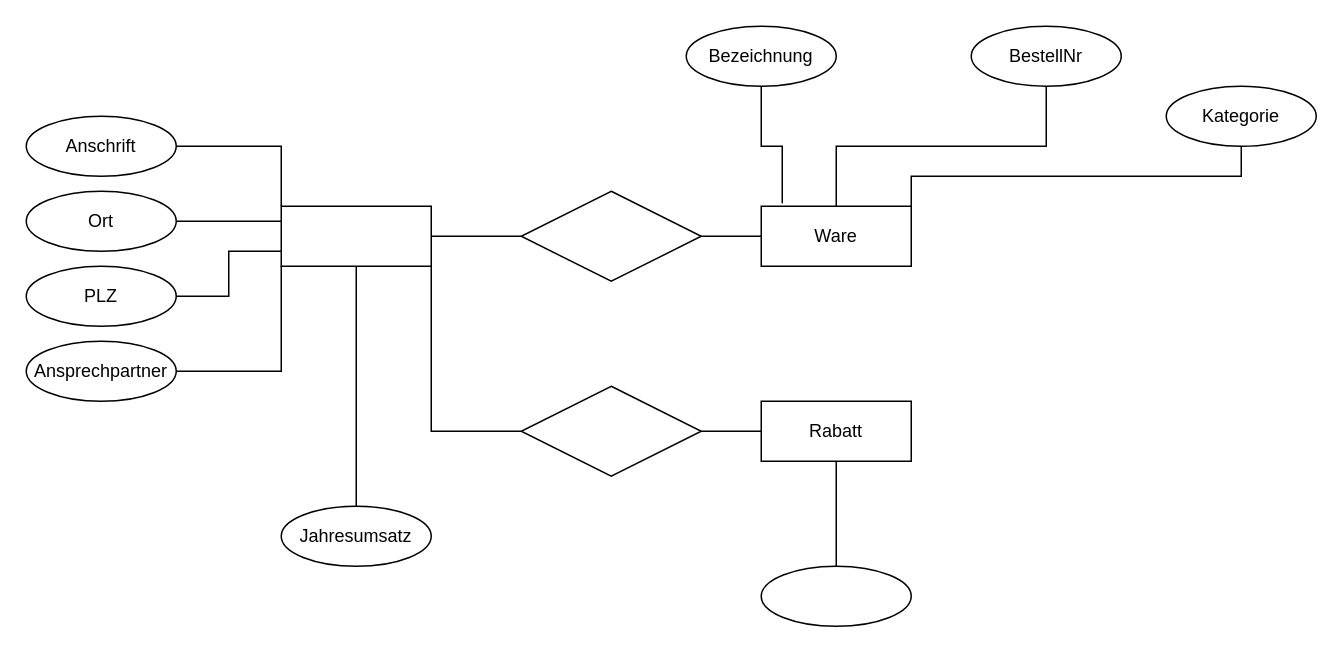
The diagram is 1343 pixels wide and 653 high, and some of its shapes have lost their labels. The centre of each missing label's shape, as x and y in pixels:
"erhält Rabatt" belongs at (610,430).
"kauft" belongs at (610,235).
"Kunde" belongs at (355,235).
"Prozentwert" belongs at (835,595).
